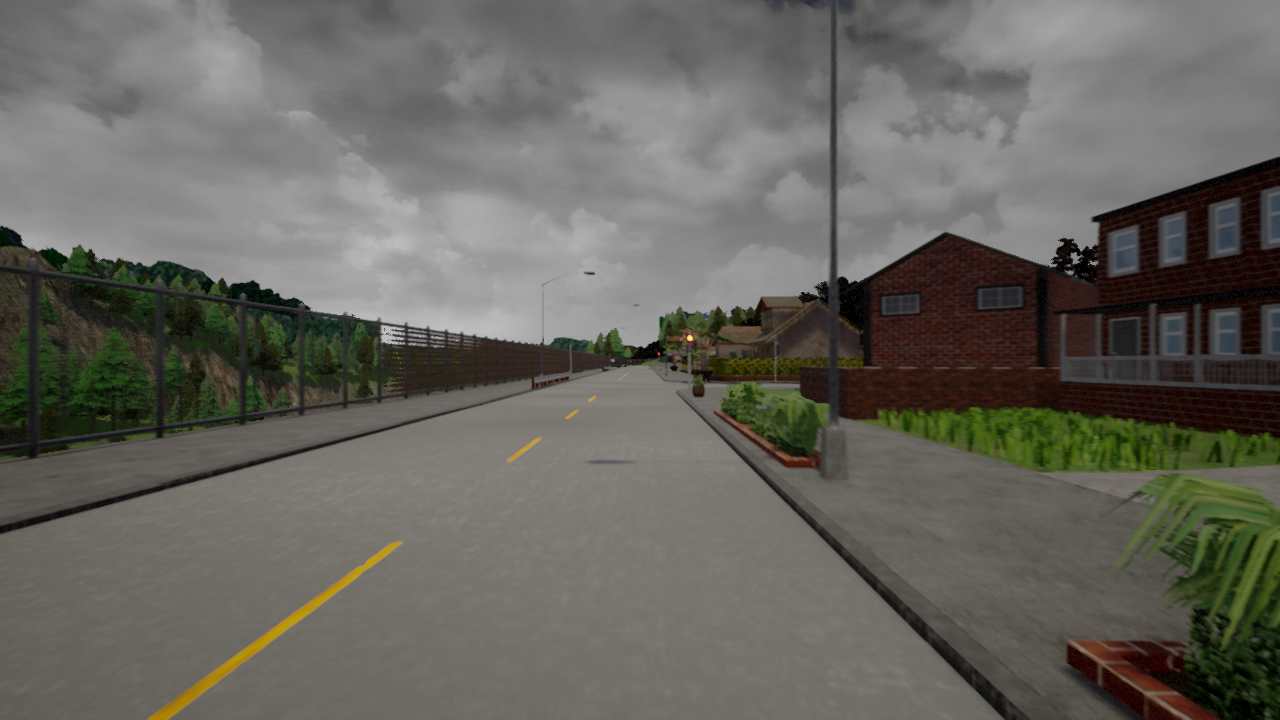red: (686, 334, 693, 354)
